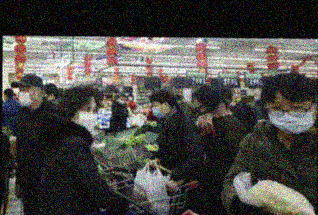with_mask: (266, 99, 315, 135), (75, 104, 98, 132), (16, 86, 34, 108), (151, 102, 165, 120), (194, 100, 205, 116), (117, 97, 128, 105), (252, 93, 261, 101), (127, 94, 134, 102)
